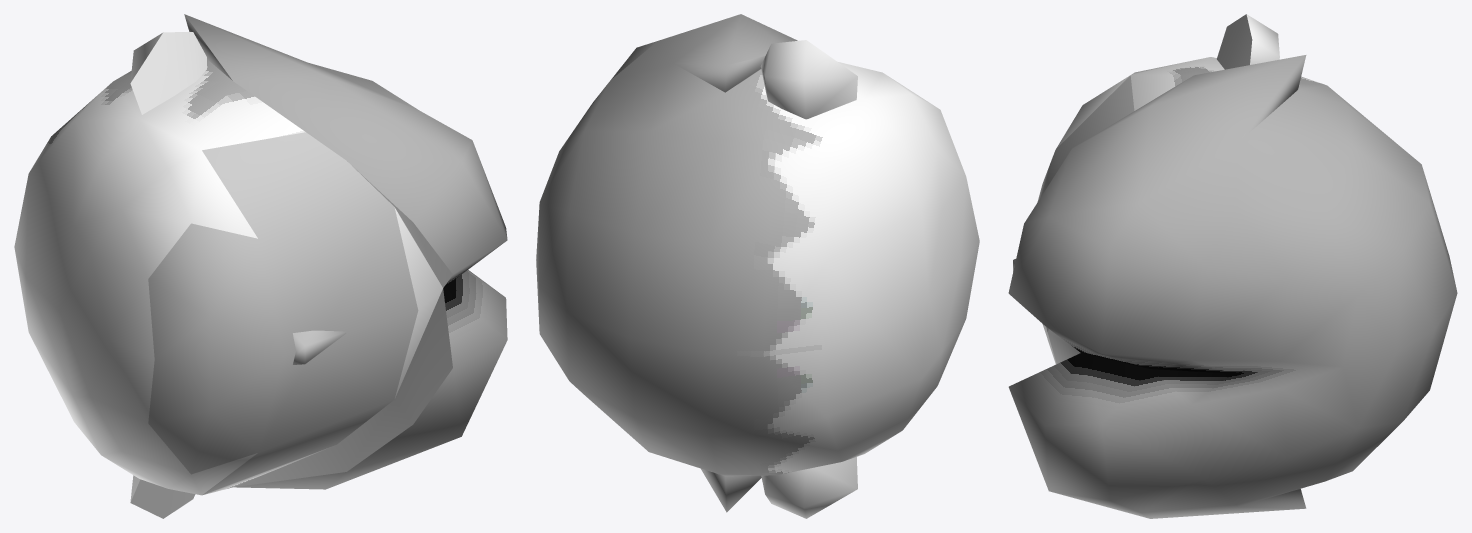
The model's file is boy04a.dae.
3 renders of one model, left to right at view 1: azimuth 30°, elevation 25°; view 2: azimuth 150°, elevation 25°; view 3: azimuth 270°, elevation 25°, orthographic.
Parts seen in each view (by area): view 1: vsn_mesh_0_, vsn_mesh_1_, vsn_mesh_2_; view 2: vsn_mesh_0_; view 3: vsn_mesh_0_, vsn_mesh_1_.
Part boxes in pixels (x1=…): vsn_mesh_0_: x1=14, y1=14, x2=507, y2=518; vsn_mesh_1_: x1=202, y1=132, x2=418, y2=494; vsn_mesh_2_: x1=148, y1=223, x2=284, y2=474; vsn_mesh_0_: x1=536, y1=14, x2=979, y2=518; vsn_mesh_0_: x1=1008, y1=14, x2=1457, y2=518; vsn_mesh_1_: x1=1013, y1=75, x2=1134, y2=364.
Bounding box in the file's own units: 22.1 × 26.71 × 22.37.
Materials: 3 (1 with a texture image).
